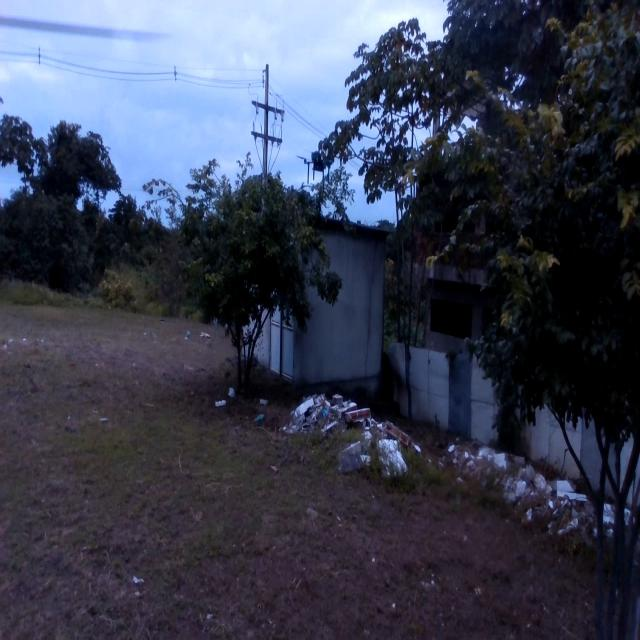-uav-: (296, 141, 339, 203)
